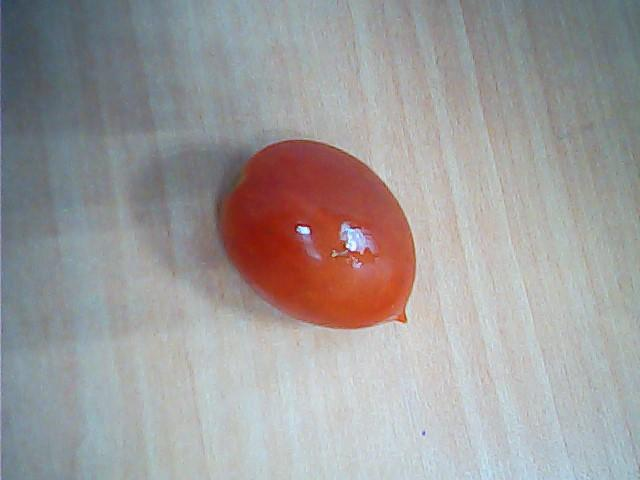maduro: (218, 138, 418, 332)
